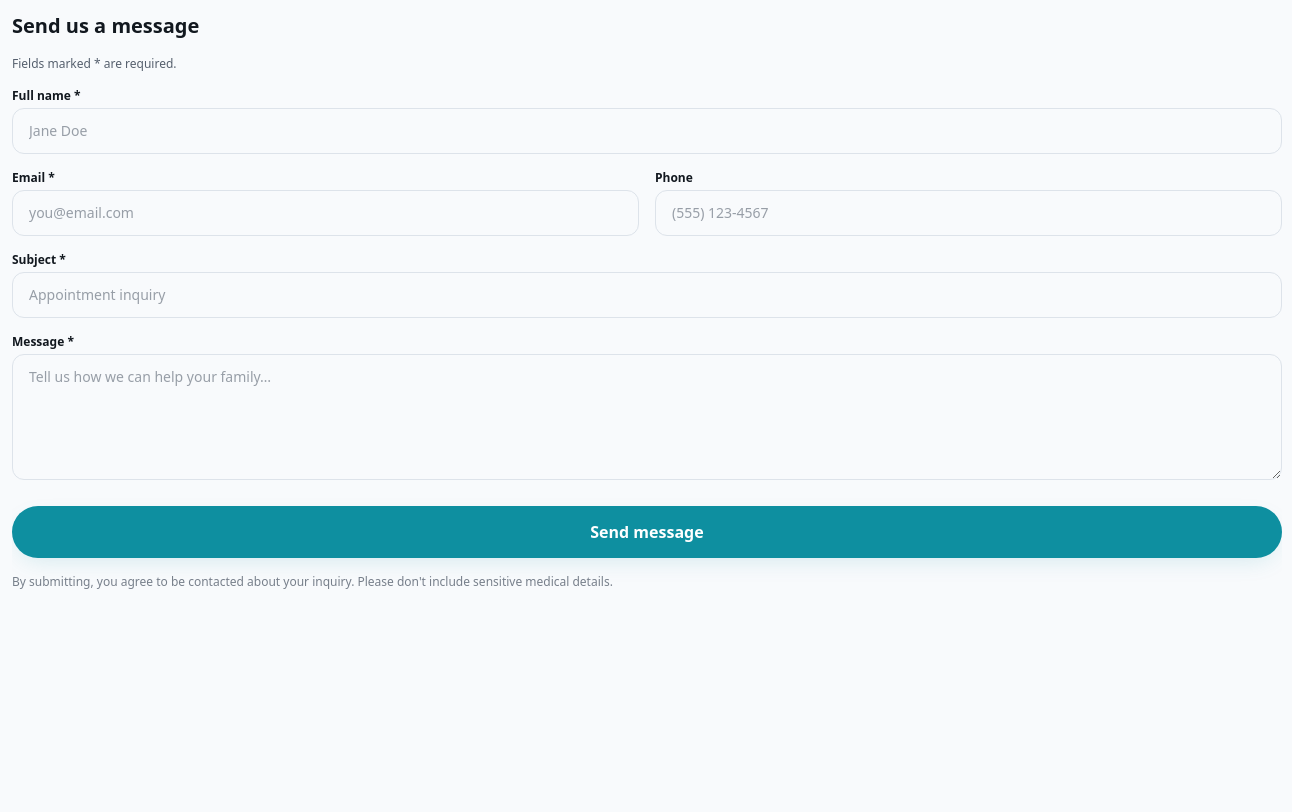
Test case: ContactForm › shows the success panel after a successful submission
Type "Jane" into the field labelled "Full name *". click: point(647, 131)
box: [12, 108, 1282, 154]
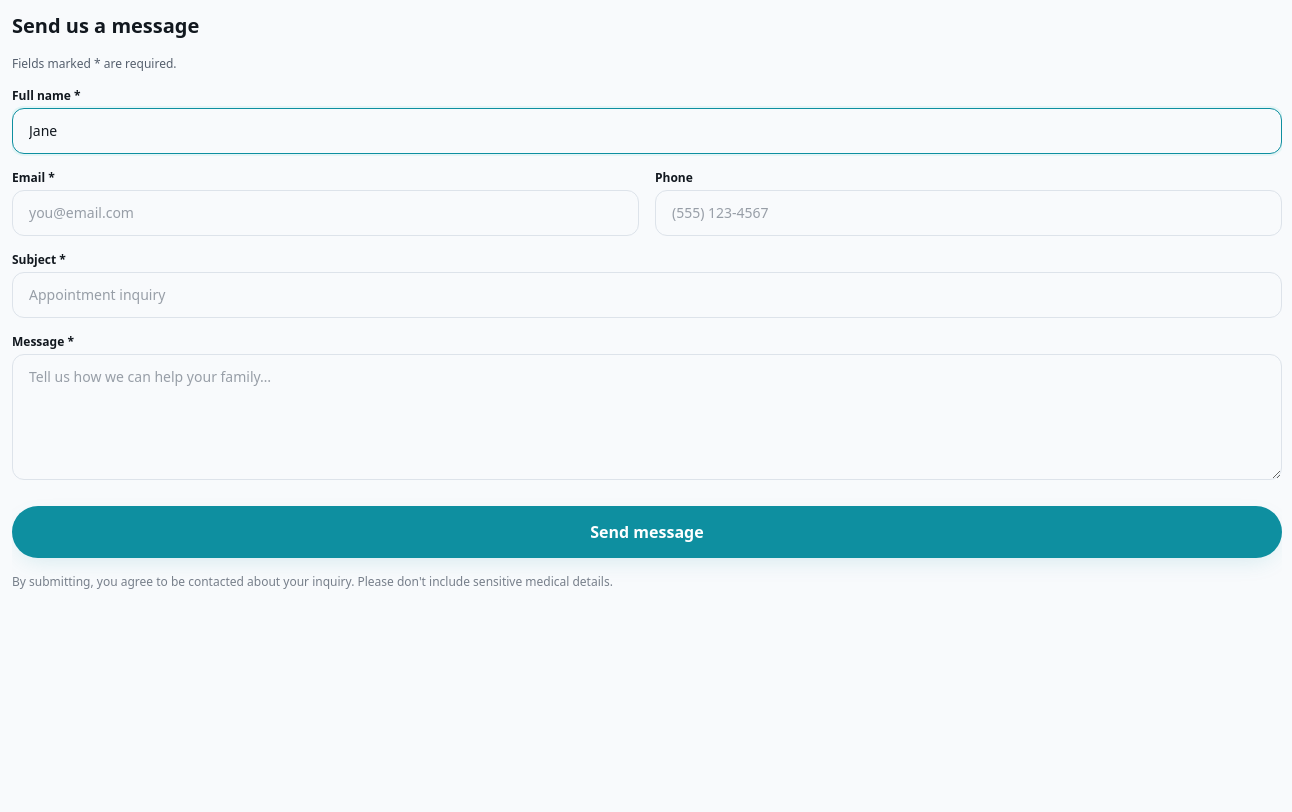
Type "jane@example.com" into the field labelled "Email *". click: point(326, 213)
box: [12, 190, 639, 236]
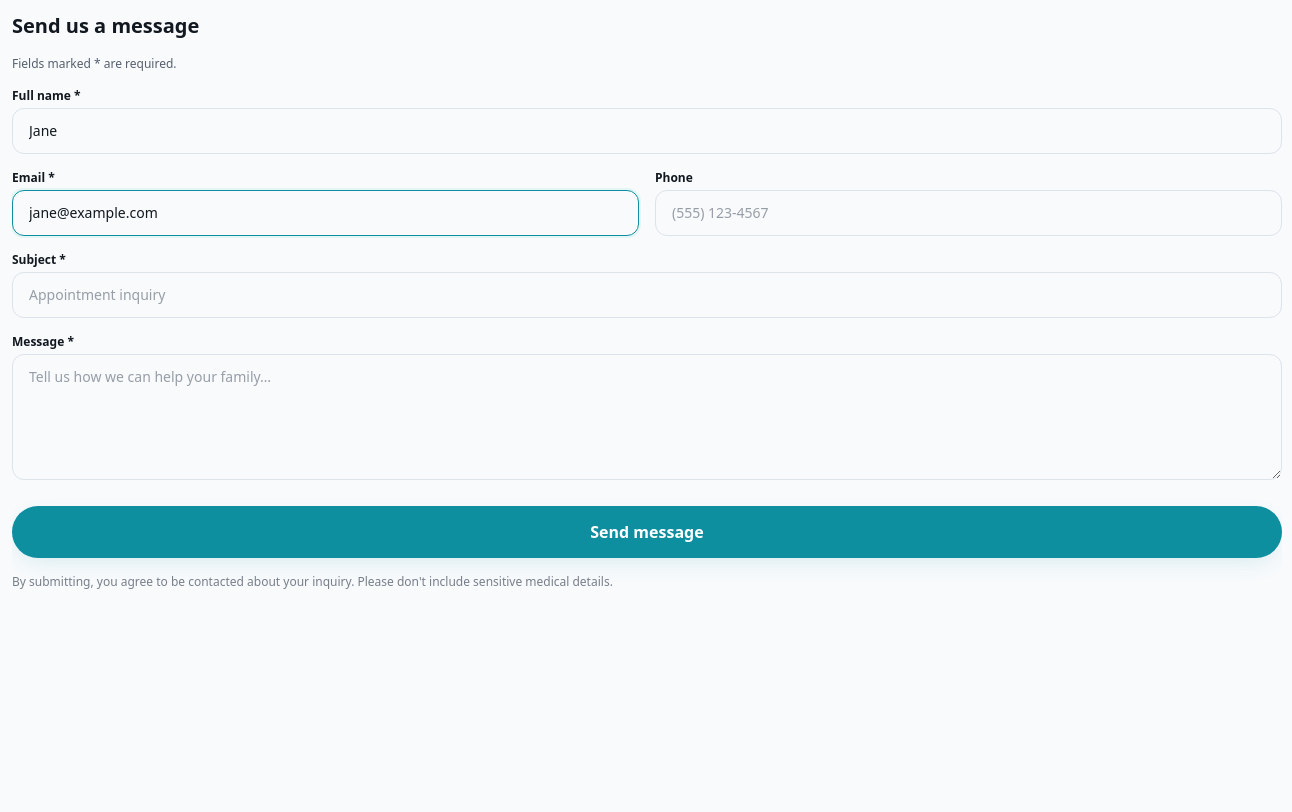
Type "Hi" into the field labelled "Subject *". click: point(647, 295)
box: [12, 272, 1282, 318]
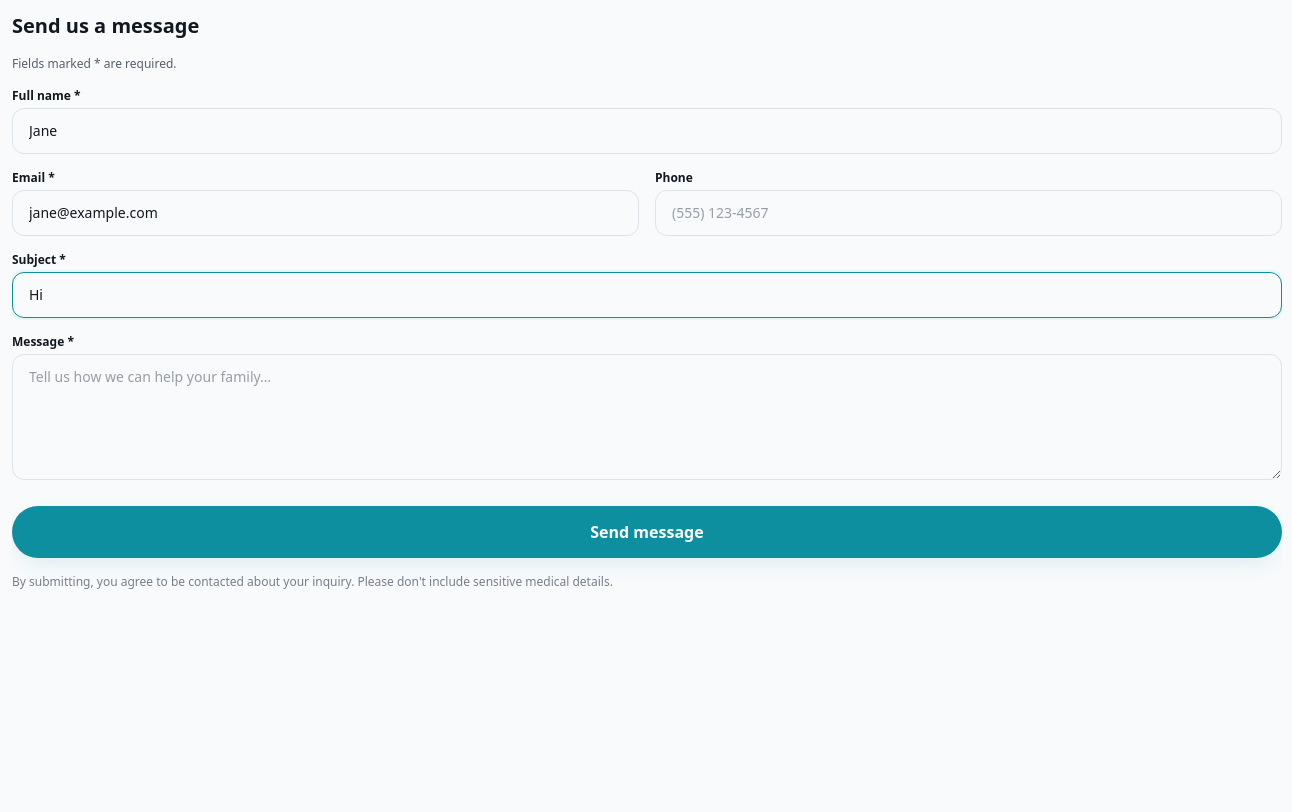
Type "Hello there" into the text box labelled "Message *". click: point(647, 417)
box: [12, 354, 1282, 480]
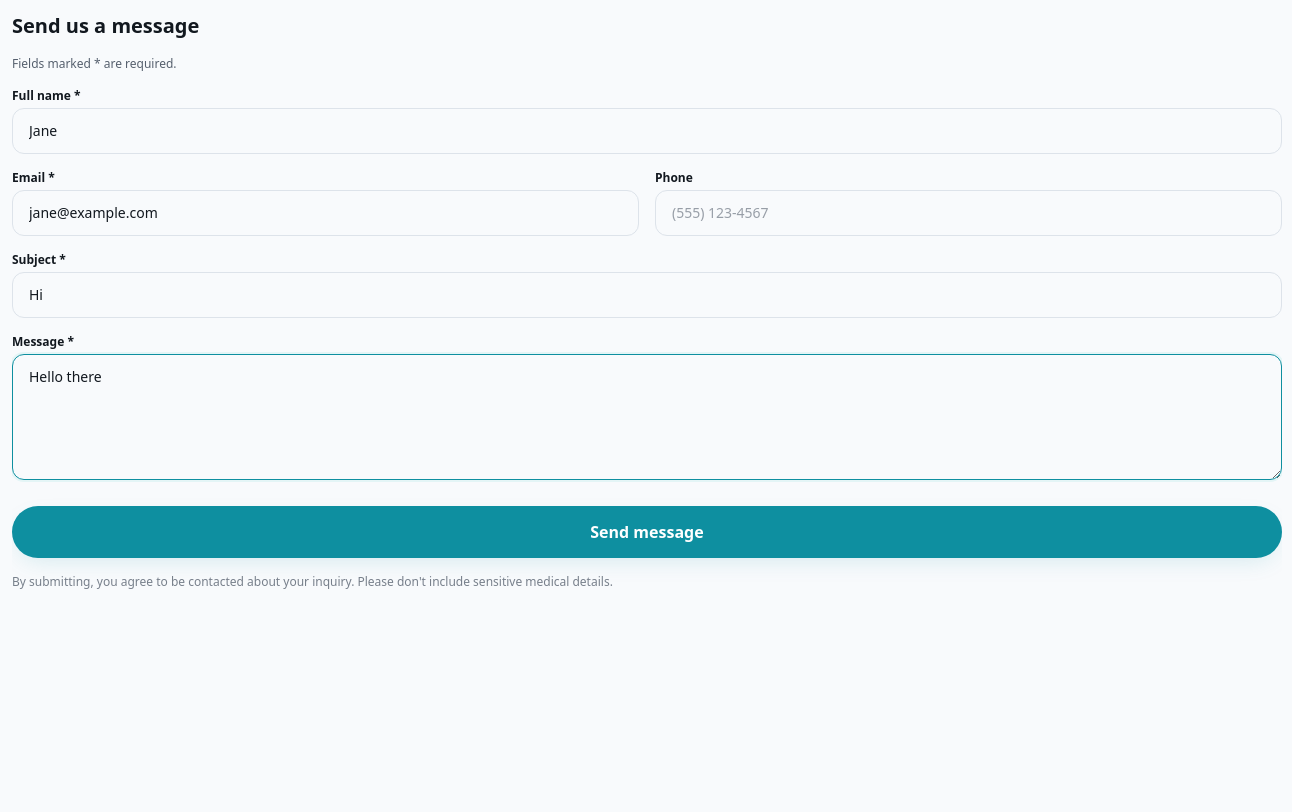
Click the button "Send message". click: point(647, 532)
box: [12, 506, 1282, 558]
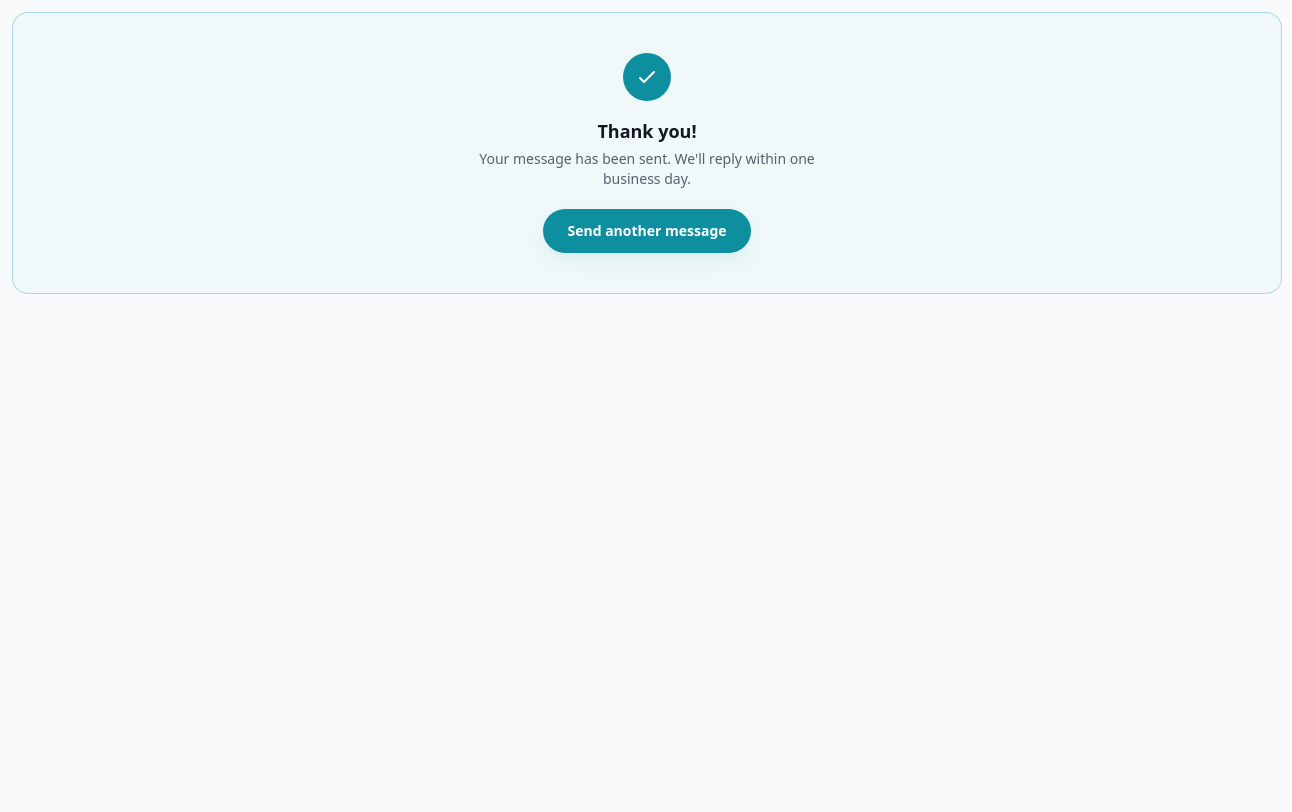
expect the text "Your message has been sent" is shown: met, box [479, 149, 815, 188]
